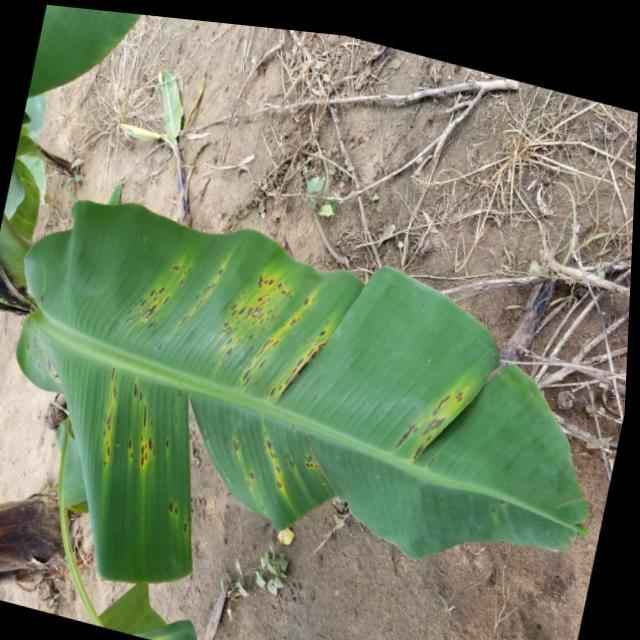Early_rust: (37, 204, 561, 607)
